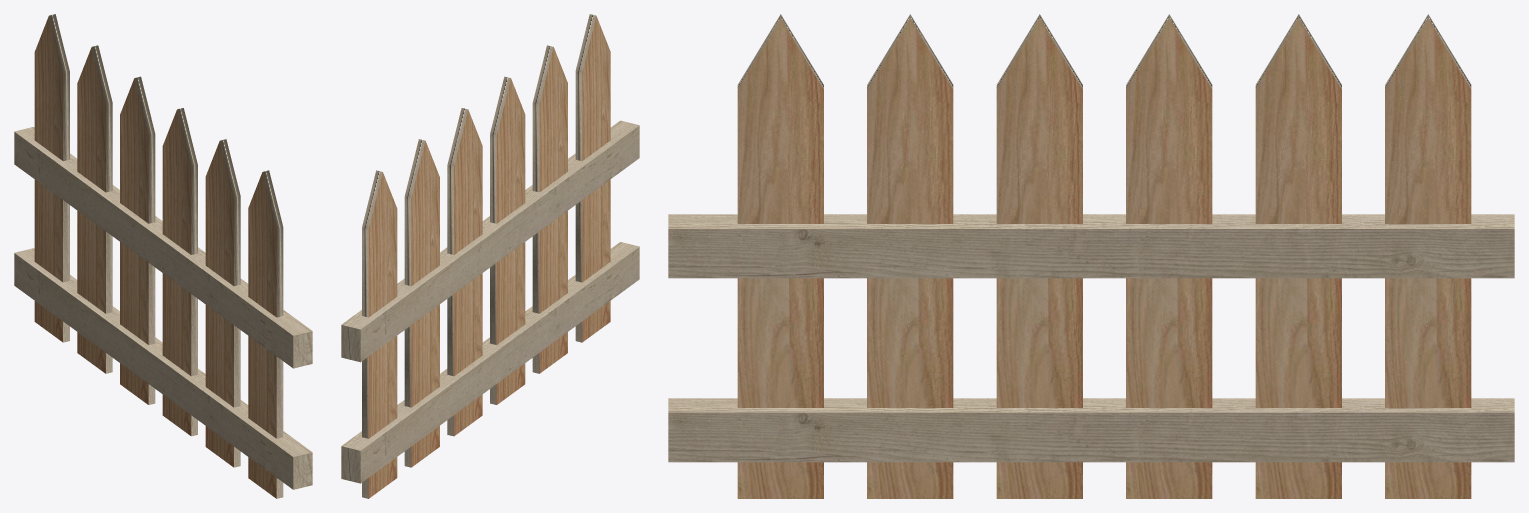
File: fence.fbx
3 renders of one model, left to right at view 1: azimuth 30°, elevation 25°; view 2: azimuth 150°, elevation 25°; view 3: azimuth 270°, elevation 25°, orthographic. The views are drawn at different scales.
Parts seen in each view (by area): view 1: pasted__pCube9, pasted__pCube7, pCube1, pCube4, pCube5, pCube6, pCube2, pCube3; view 2: pasted__pCube9, pasted__pCube7, pCube1, pCube3, pCube6, pCube4, pCube5, pCube2; view 3: pasted__pCube7, pasted__pCube9, pCube5, pCube3, pCube1, pCube2, pCube4, pCube6.
Part boxes in pixels (x1,y1,x2,y2): pasted__pCube9: (14, 248, 312, 489); pasted__pCube7: (14, 127, 312, 368); pCube1: (34, 14, 69, 342); pCube4: (162, 108, 197, 436); pCube5: (205, 139, 240, 467); pCube6: (248, 170, 283, 498); pCube2: (77, 45, 112, 373); pCube3: (120, 76, 155, 404); pasted__pCube9: (341, 242, 639, 483); pasted__pCube7: (341, 120, 639, 362); pCube1: (362, 170, 397, 498); pCube3: (447, 108, 482, 436); pCube6: (575, 14, 610, 342); pCube4: (490, 76, 525, 404); pCube5: (532, 45, 567, 373); pCube2: (404, 139, 439, 467); pasted__pCube7: (668, 214, 1514, 278); pasted__pCube9: (668, 398, 1514, 462); pCube5: (867, 14, 953, 498); pCube3: (1126, 14, 1212, 498); pCube1: (1385, 14, 1471, 498); pCube2: (1255, 14, 1341, 498); pCube4: (996, 14, 1082, 498); pCube6: (737, 14, 823, 498).
Size of the model in its own units: 0.3949 by 6.14 by 9.8.
2 materials, 2 textured.
